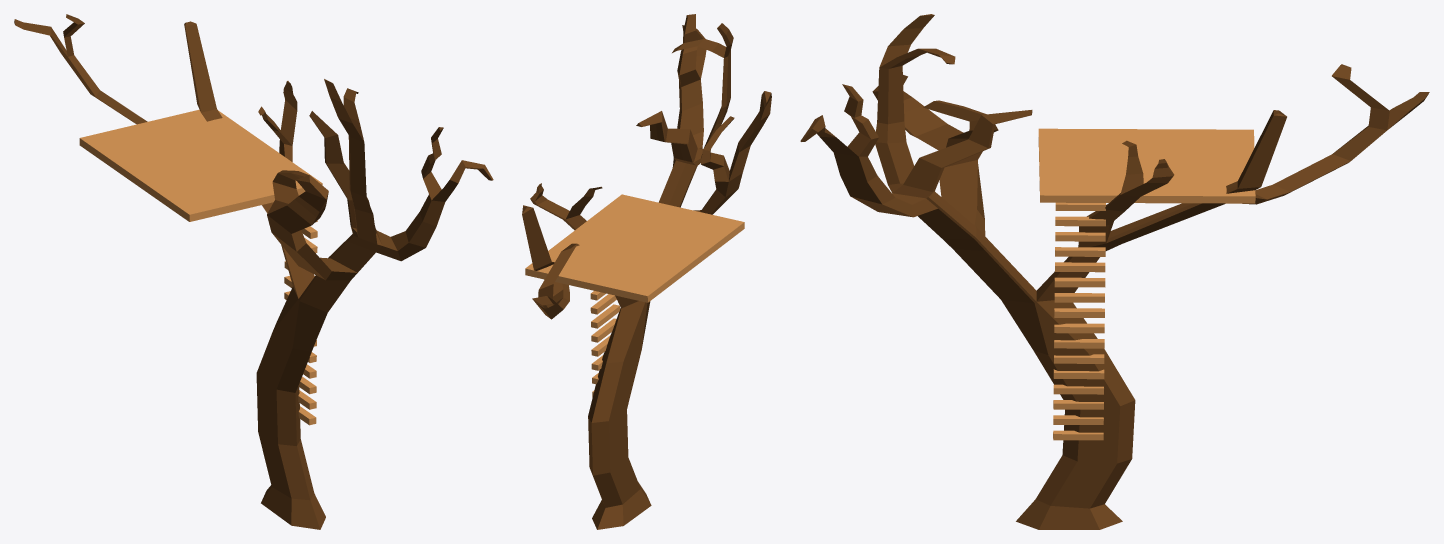
File: 10.Tree base.fbx
3 views of the same model, side by side, from view 1: azimuth 30°, elevation 25°; view 2: azimuth 150°, elevation 25°; view 3: azimuth 270°, elevation 25° (orthographic). The views are drawn at different scales.
Parts seen in each view (by area): view 1: Africa tree small.002; view 2: Africa tree small.002; view 3: Africa tree small.002.
Part boxes in pixels (left/top/right/bottom): Africa tree small.002: left=14, top=14, right=493, bottom=529; Africa tree small.002: left=522, top=14, right=771, bottom=529; Africa tree small.002: left=800, top=14, right=1429, bottom=529.
Size of the model in its own units: 406 by 1018 by 1187.
